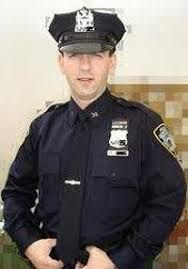uniform: (7, 98, 174, 259)
